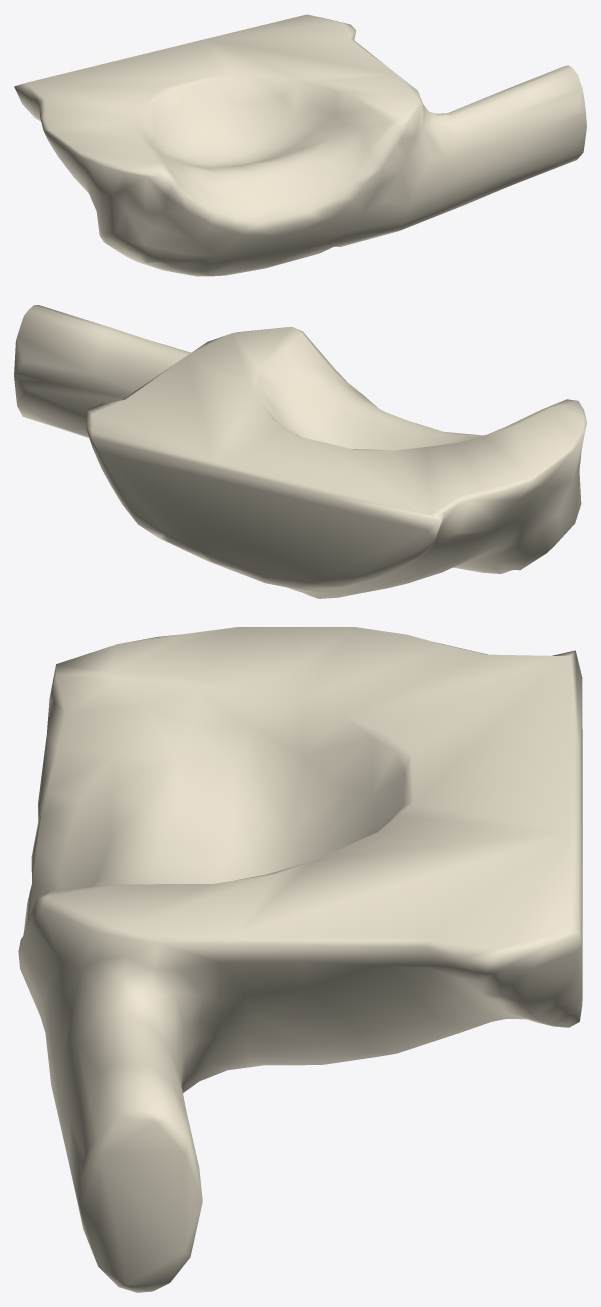
File: jugal_l.glb
3 renders of one model, top to bottom at view 1: azimuth 30°, elevation 25°; view 2: azimuth 150°, elevation 25°; view 3: azimuth 270°, elevation 25°, orthographic. The views are drawn at different scales.
Parts seen in each view (by area): view 1: geometry_0; view 2: geometry_0; view 3: geometry_0.
Part boxes in pixels (left/top/right/bottom): geometry_0: left=14, top=14, right=586, bottom=276; geometry_0: left=14, top=305, right=586, bottom=598; geometry_0: left=18, top=627, right=582, bottom=1292.
Bounding box in the file's own units: 0.2504 × 0.0691 × 0.1292.
